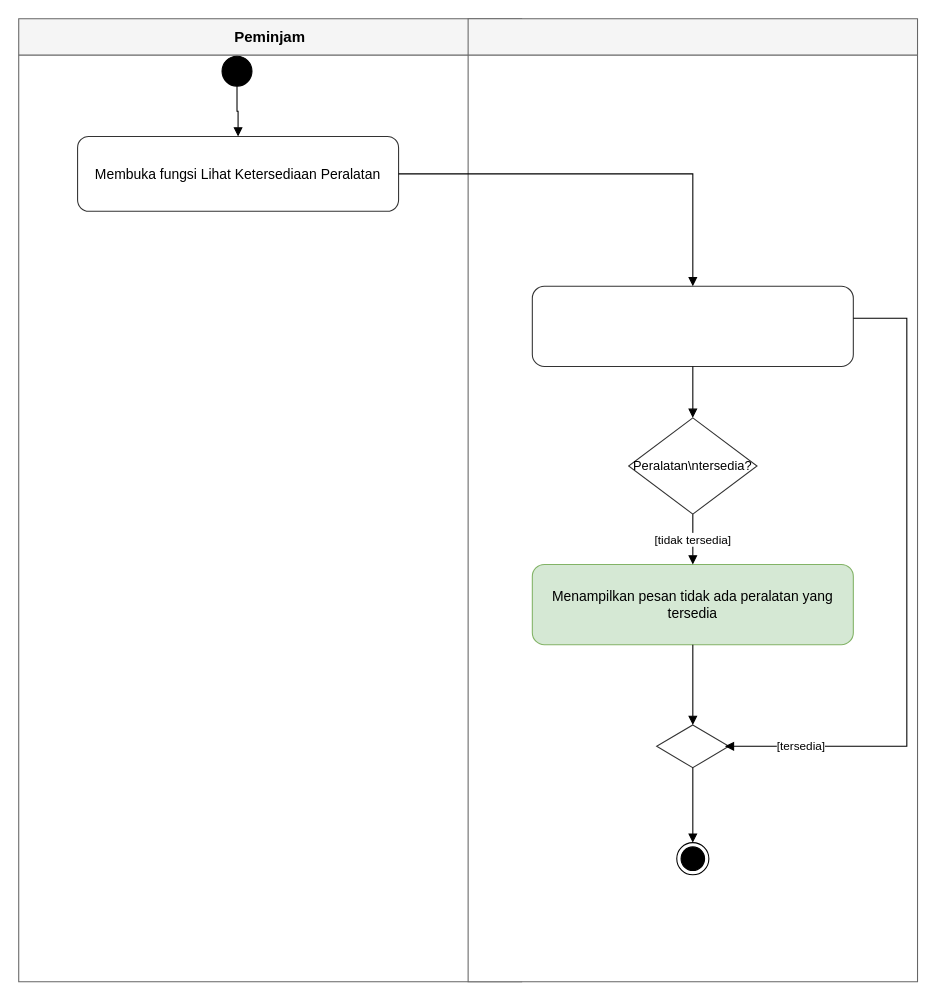
Some shapes in this 936 by 1000 pixel diagram are drawn without their labels. Here are the shapes that lost their labels. From the top down, the box of each, then its label:
(531, 285, 853, 366): Menampilkan daftar peralatan beserta status ketersediaannya
(467, 18, 918, 982): Sistem
